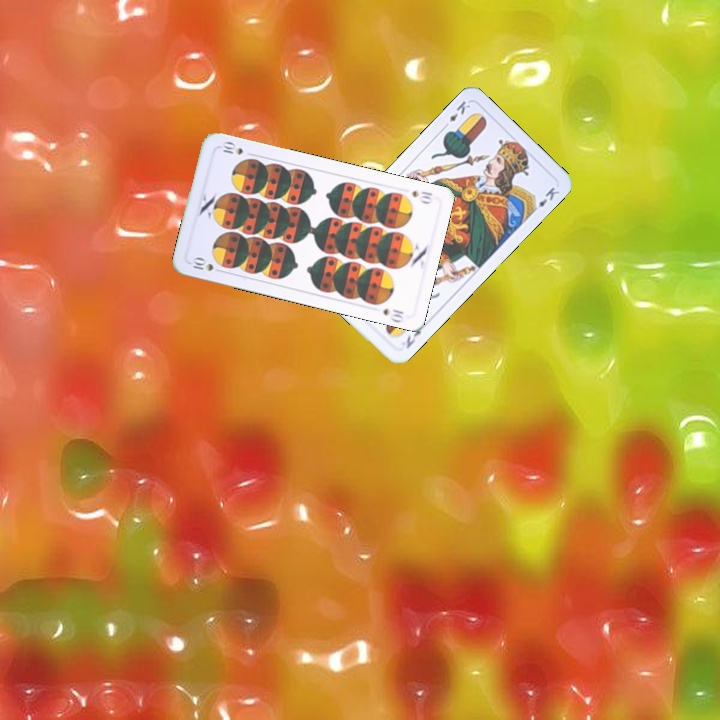EK: (439, 97, 473, 131), (402, 325, 424, 351)
S10: (188, 253, 226, 275), (408, 186, 435, 206)
